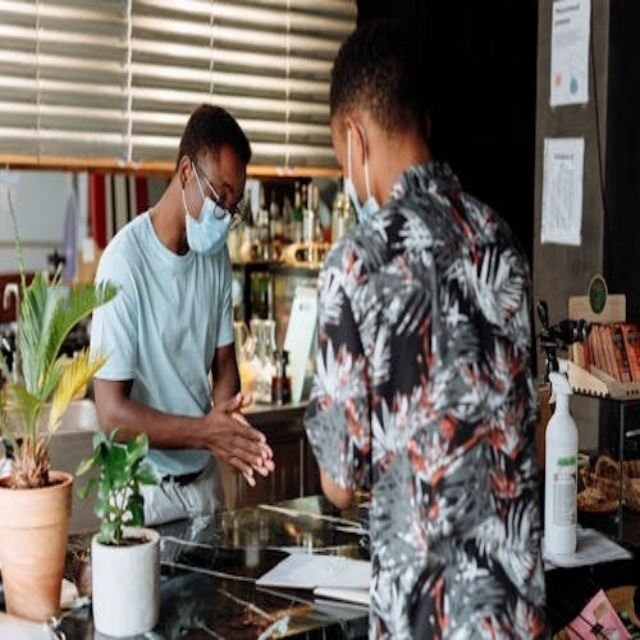Gafas: (192, 157, 243, 221)
Mascara: (181, 161, 235, 254), (345, 125, 378, 225)
Sin_guantes: (212, 402, 276, 485)
